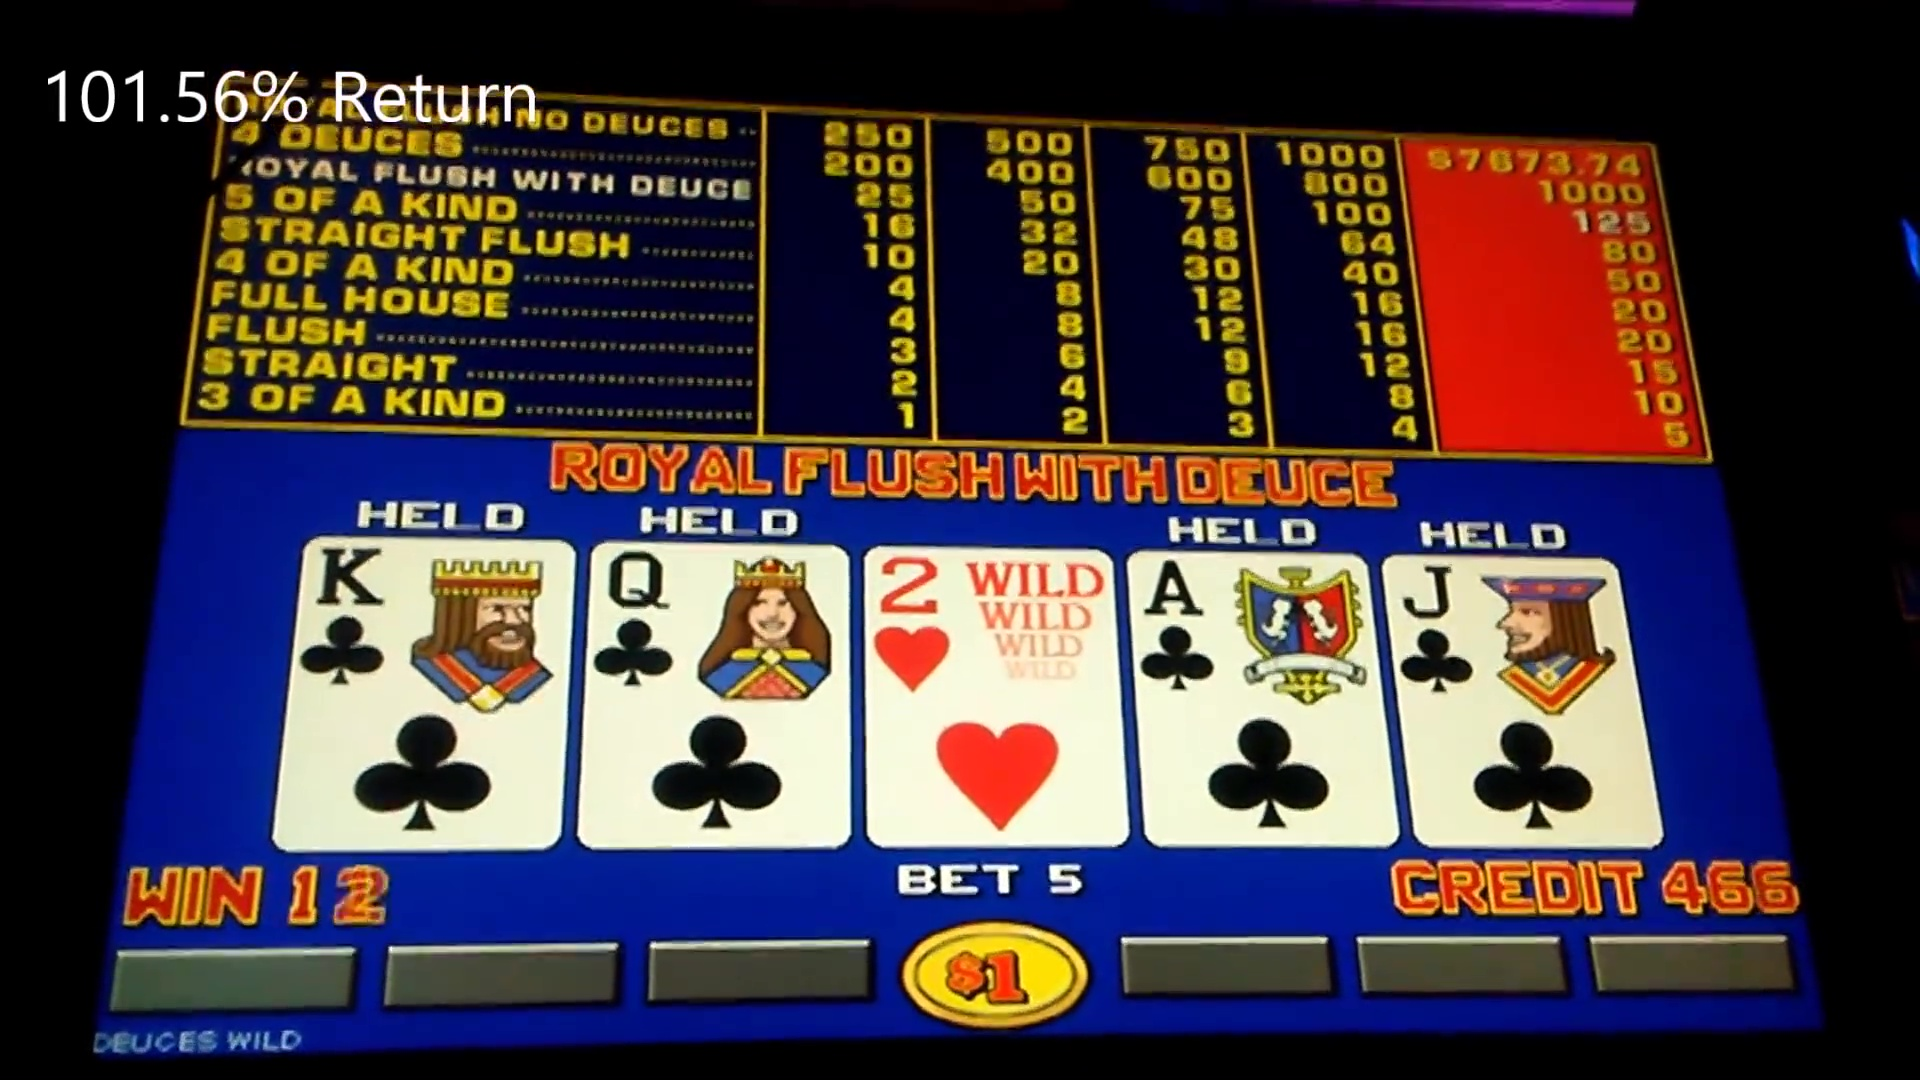CA: (1135, 556, 1375, 847)
CJ: (1400, 559, 1636, 849)
CK: (293, 541, 568, 852)
CQ: (589, 541, 847, 848)
H2W: (872, 542, 1114, 856)
